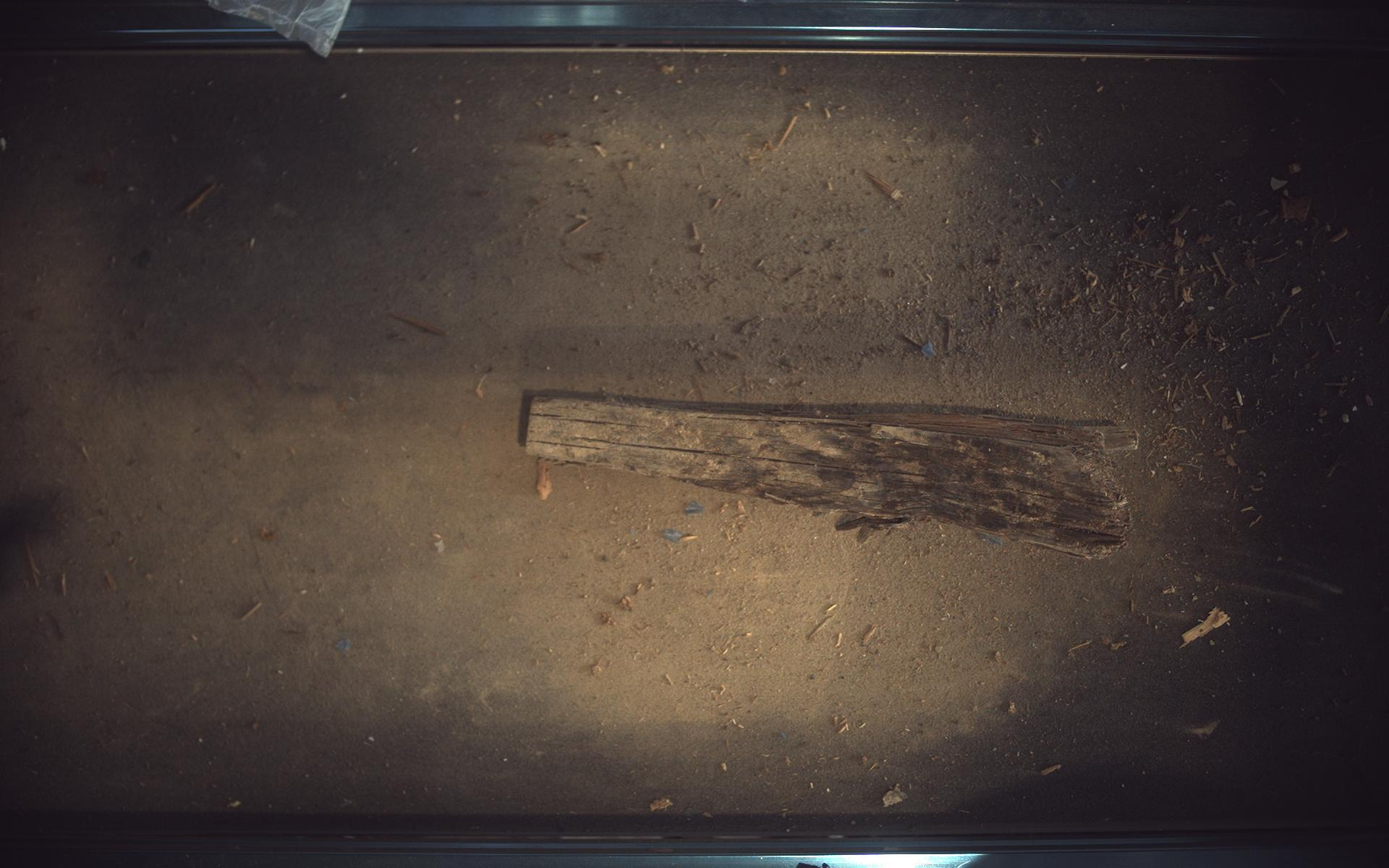wood: (526, 393, 1140, 558)
